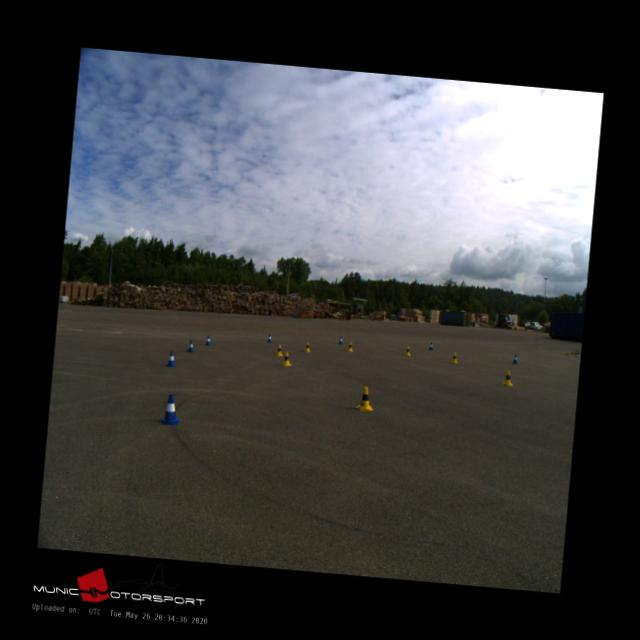blue_cone: (160, 392, 180, 425), (166, 350, 177, 366), (186, 339, 194, 352), (205, 334, 211, 345), (512, 354, 518, 364), (267, 333, 272, 342), (428, 341, 433, 350), (338, 336, 342, 344)
yellow_cone: (355, 384, 374, 411), (500, 370, 513, 384), (280, 350, 292, 364), (275, 343, 284, 356), (404, 344, 411, 356), (303, 341, 310, 352), (451, 352, 458, 363), (347, 341, 353, 351)
